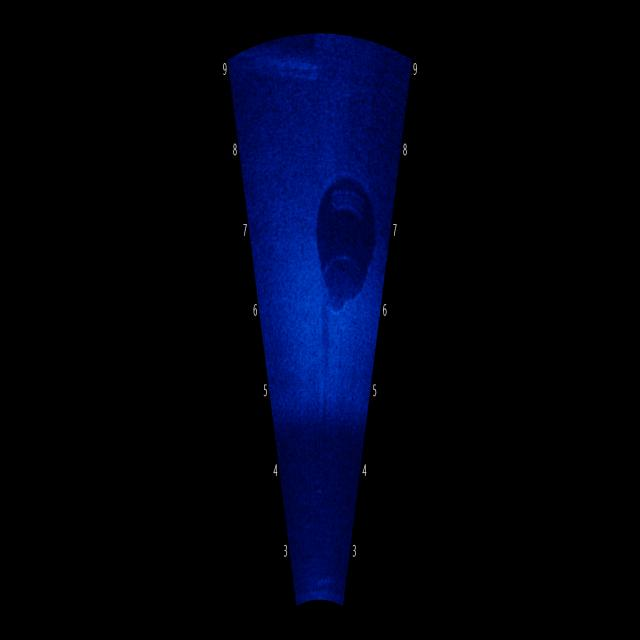circle: (317, 152, 394, 339)
